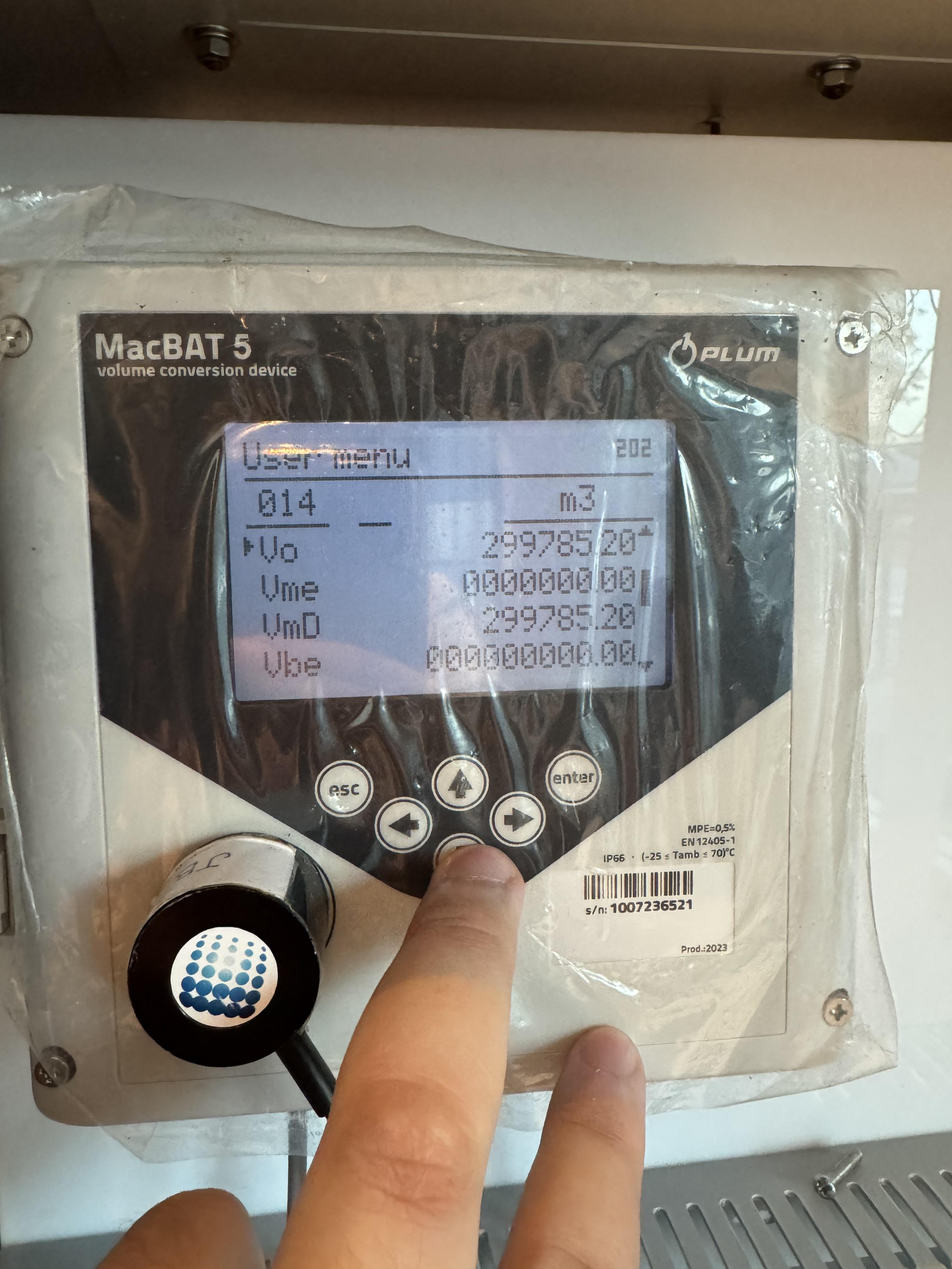digital_screen: (225, 421, 675, 701)
